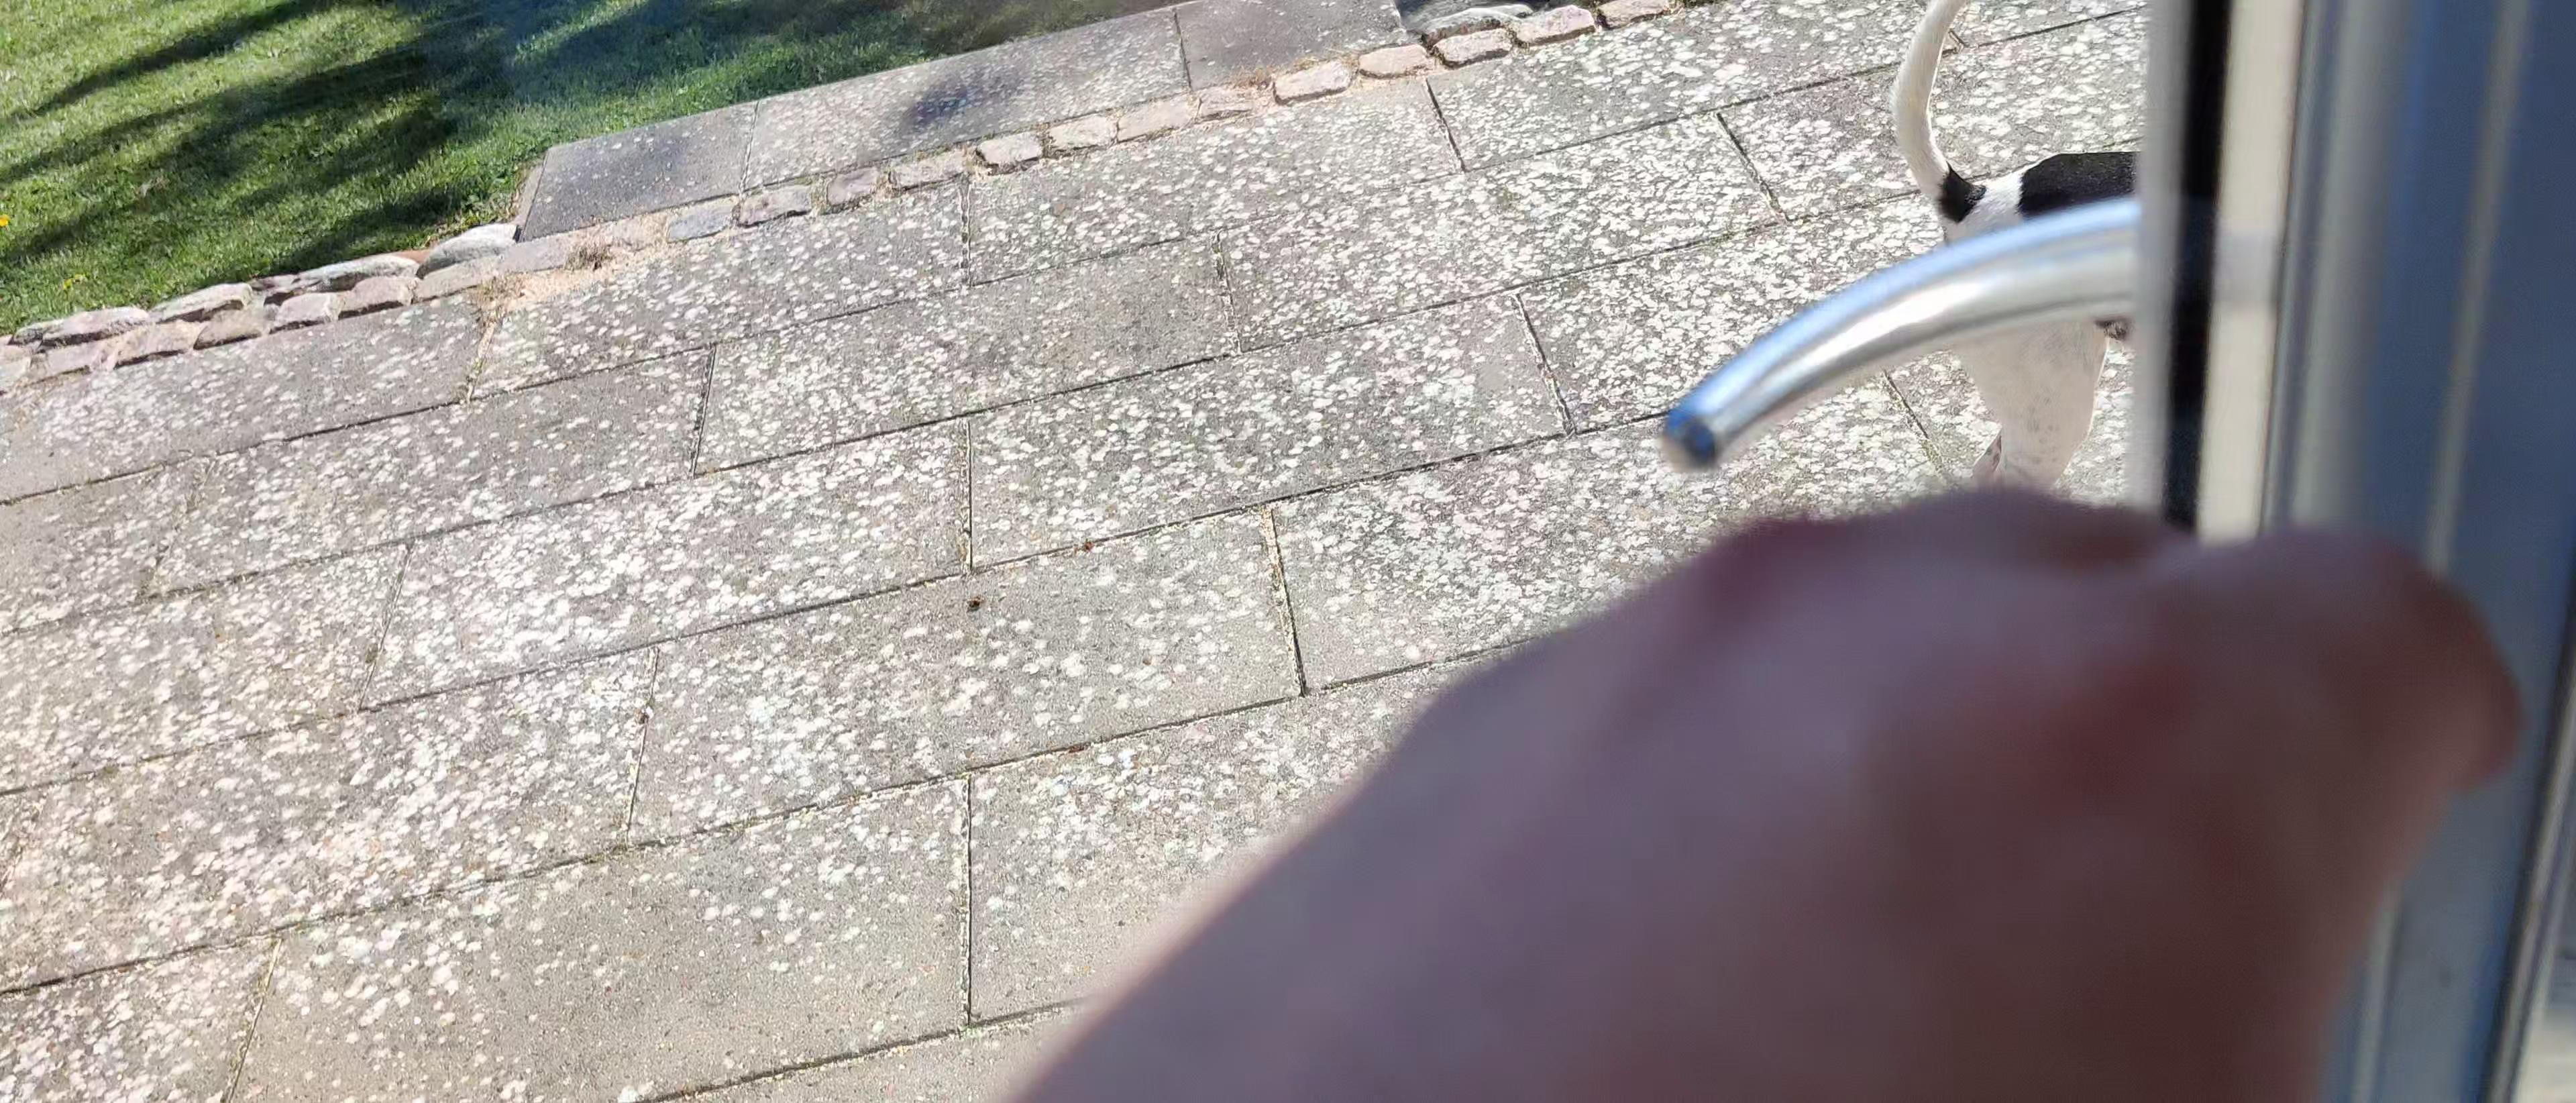Dog: (1883, 0, 2146, 496)
